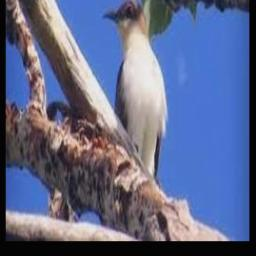Cuckoo: (101, 0, 167, 179)
